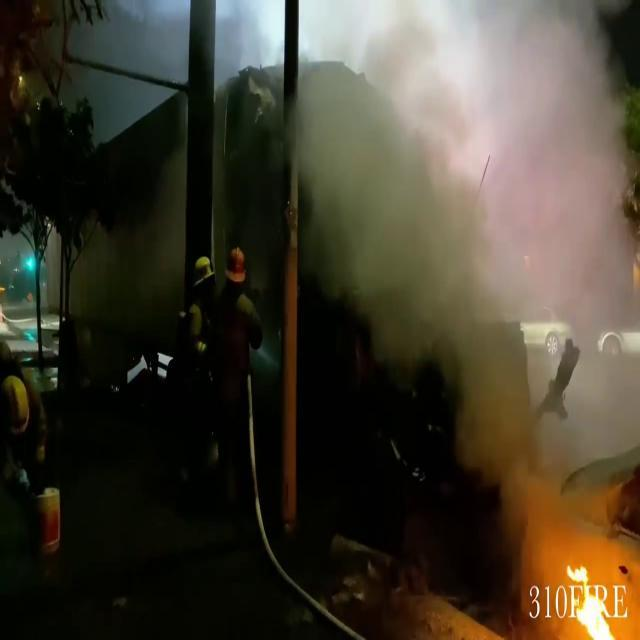Fire: (544, 558, 634, 640)
Smoke: (309, 0, 639, 549)
